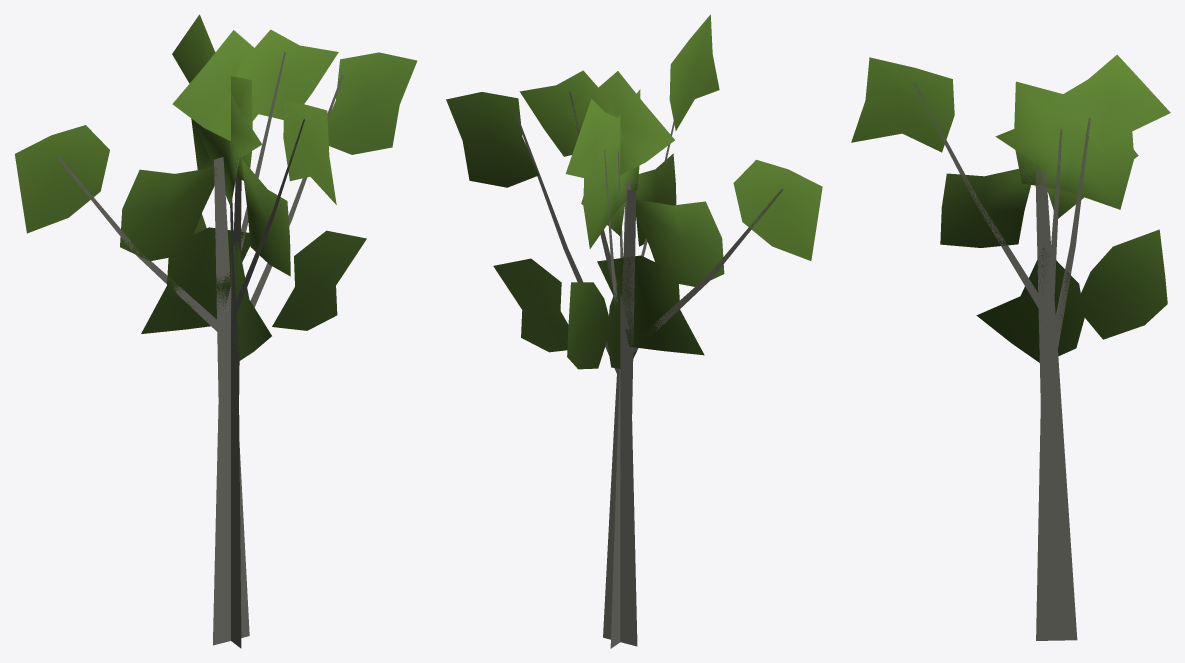
File: beech-c.card.glb
3 renders of one model, left to right at view 1: azimuth 30°, elevation 25°; view 2: azimuth 150°, elevation 25°; view 3: azimuth 270°, elevation 25°, orthographic. The views are drawn at different scales.
Size of the model in its own units: 8.84 by 12.82 by 6.27.
